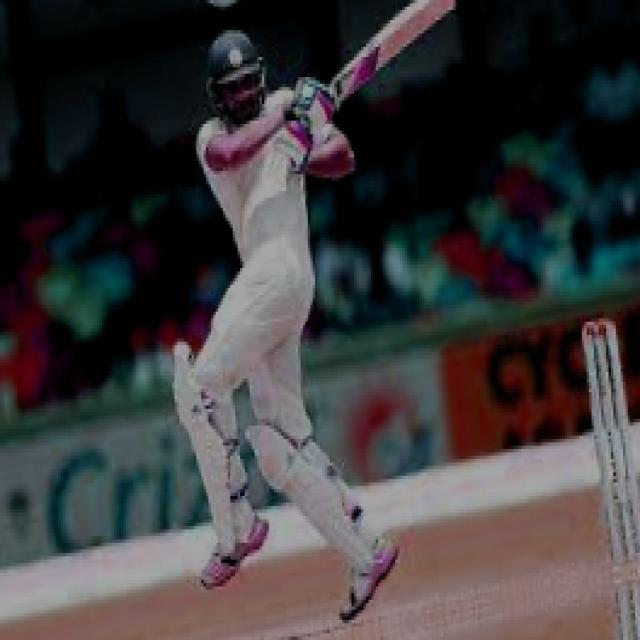toe: (402, 0, 456, 20)
